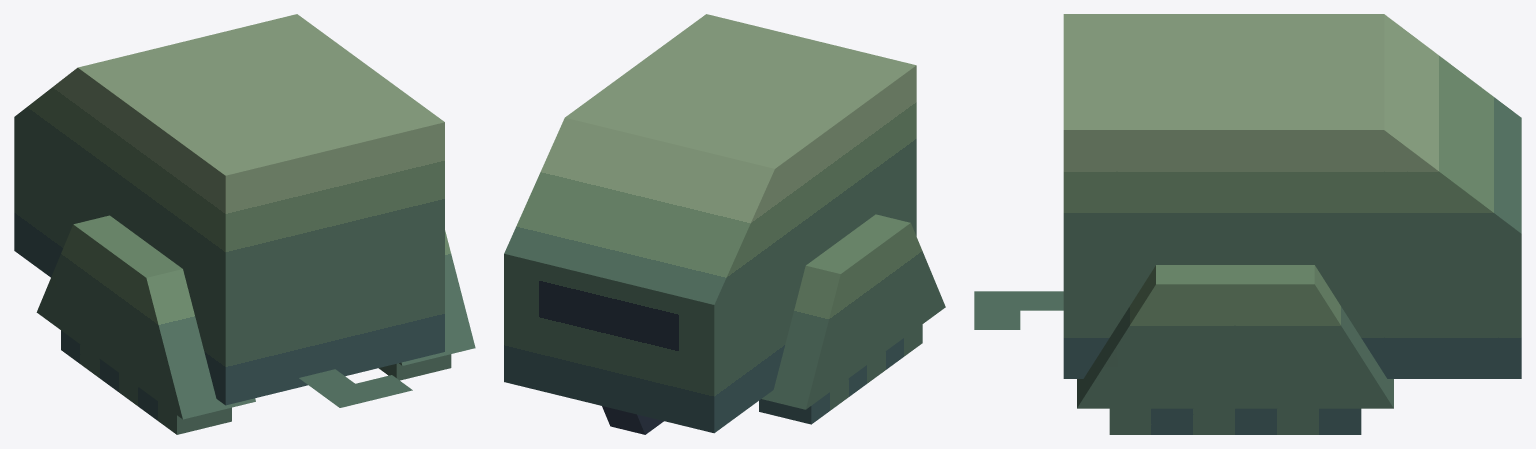
Rendered from Armored Carrier.gltf.
The picture shows the model from 3 angles, left to right: view 1: azimuth 30°, elevation 25°; view 2: azimuth 150°, elevation 25°; view 3: azimuth 270°, elevation 25°; orthographic projection. The views are drawn at different scales.
Parts seen in each view (by area): view 1: Head, Track Cover (×2), Track (×2), Latch; view 2: Head, Track Cover, Track, cylinder; view 3: Head, Track Cover, Track, Latch.
Boxes of the visible parts, x1,y1,x2,y2 form: Head: (14, 14, 444, 405); Track Cover (×2): (36, 215, 475, 419); Track (×2): (61, 330, 451, 434); Latch: (299, 369, 412, 407); Head: (504, 14, 916, 433); Track Cover: (762, 214, 945, 409); Track: (759, 324, 922, 424); cylinder: (602, 406, 663, 434); Head: (1063, 14, 1521, 378); Track Cover: (1077, 265, 1393, 408); Track: (1109, 408, 1361, 434); Latch: (974, 291, 1063, 329).
Size of the model in its own units: 0.5 by 0.4375 by 0.7469.
1 material, 1 textured.
